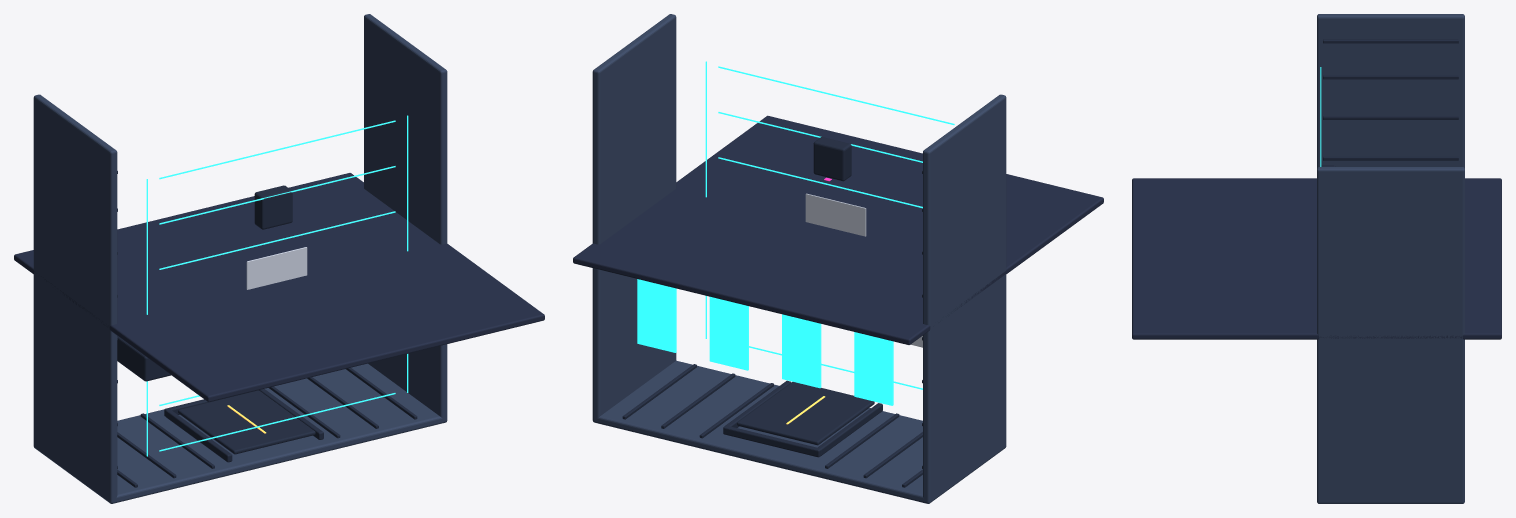
The model's file is Higgsfield_G0_Runtime.glb.
3 renders of one model, left to right at view 1: azimuth 30°, elevation 25°; view 2: azimuth 150°, elevation 25°; view 3: azimuth 270°, elevation 25°, orthographic. The views are drawn at different scales.
Visible parts, largest first — view 1: Higgsfield_G0Room_Static; view 2: Higgsfield_G0Room_Static; view 3: Higgsfield_G0Room_Static.
Boxes of the visible parts, x1=… form: Higgsfield_G0Room_Static: x1=14, y1=14, x2=544, y2=503; Higgsfield_G0Room_Static: x1=573, y1=14, x2=1103, y2=503; Higgsfield_G0Room_Static: x1=1132, y1=14, x2=1501, y2=503.
Size of the model in its own units: 14 by 14 by 14.
